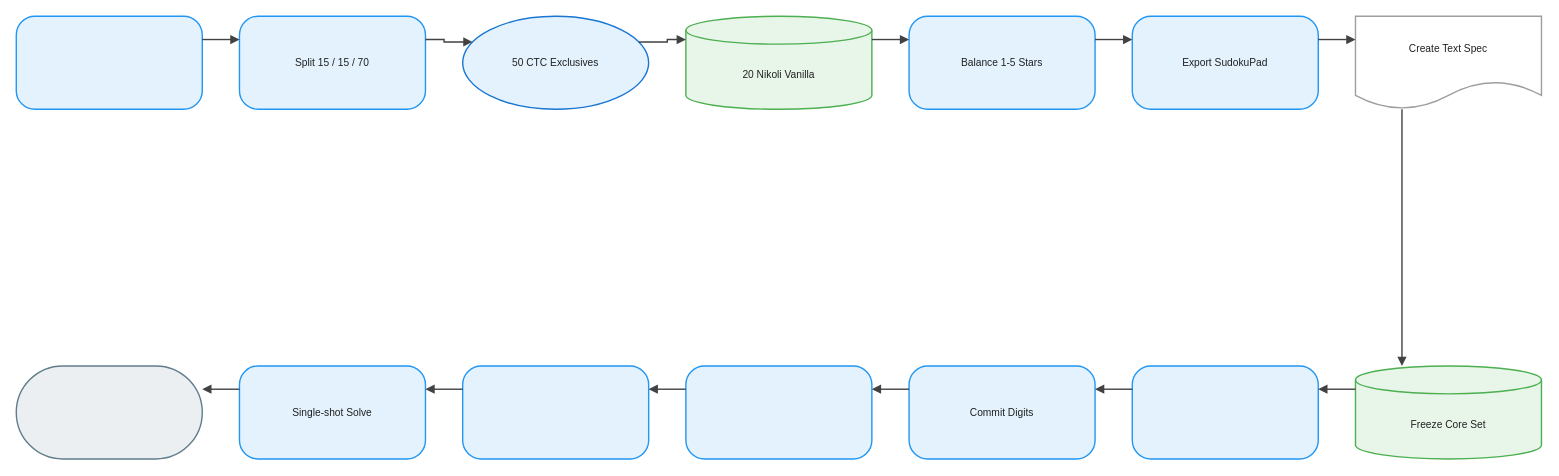
Some shapes in this 1559 by 476 pixel diagram are drawn without their labels. Each missing label, with the centre of its shape:
"Keep First + Last 5" belongs at pixel 555 412.
"No-tool Modes" belongs at pixel 1225 412.
"Report Averages" belongs at pixel 109 412.
"Select Core 100" belongs at pixel 109 62.
"Update or Stop" belongs at pixel 778 412.
